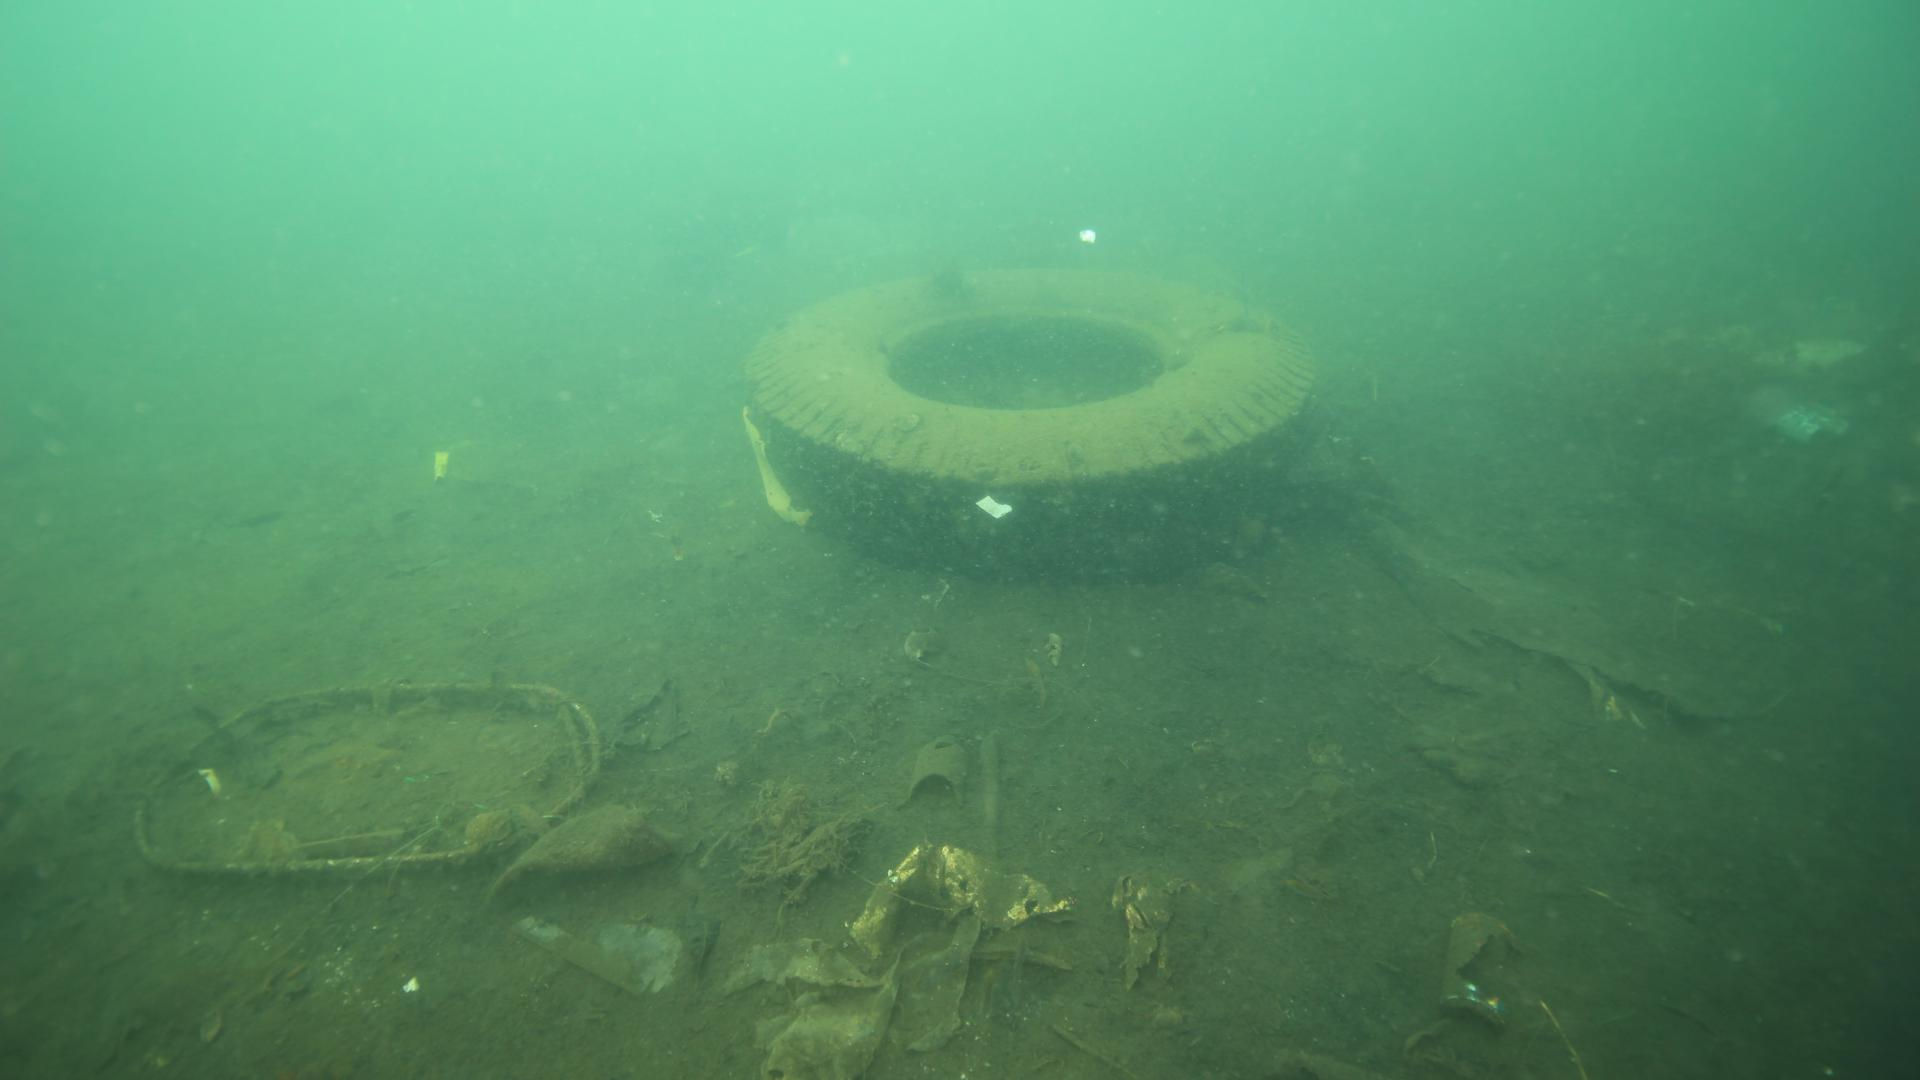tire: (738, 260, 1321, 579)
